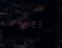five: (24, 20, 29, 28)
one: (18, 20, 23, 28)
three: (30, 20, 35, 28), (36, 20, 41, 28)
